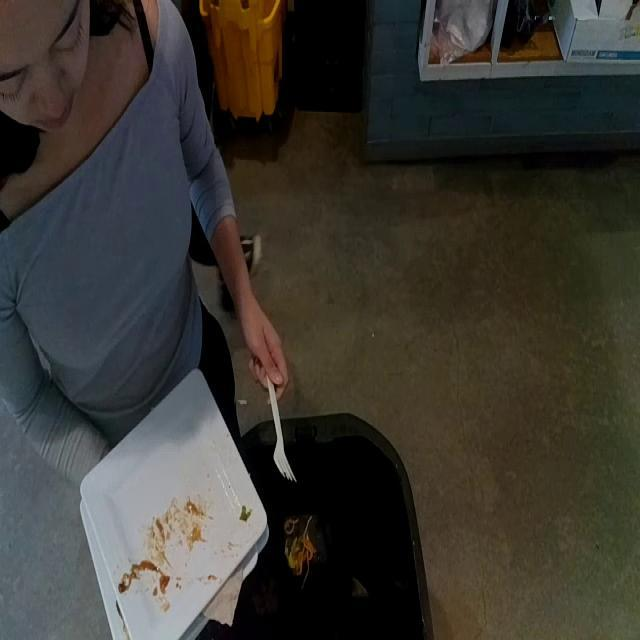Anorganik: (87, 387, 274, 629), (263, 383, 299, 483)
Organik: (275, 510, 339, 612)
